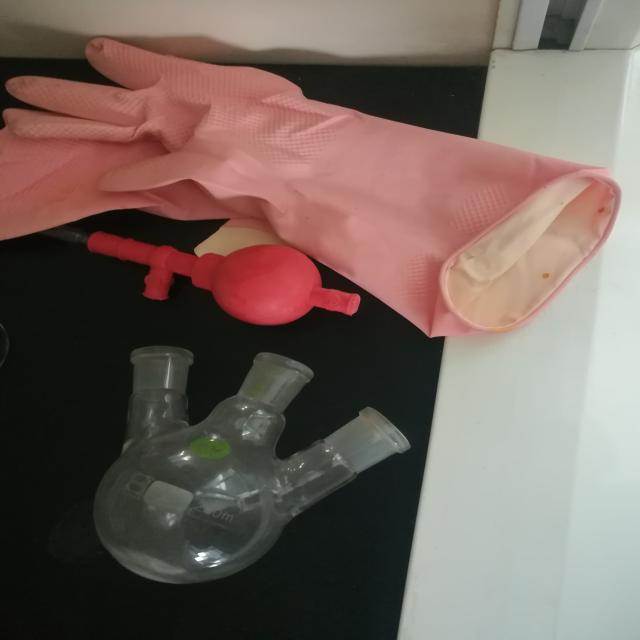Round_Bottom_Flask_Borosilicate_Glass_3_Neck: (67, 313, 423, 613)
